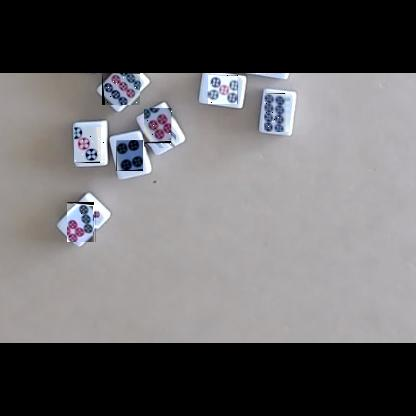1p: (256, 73, 281, 74)
3p: (75, 127, 105, 163)
4p: (116, 140, 143, 171)
5p: (208, 75, 238, 104)
6p: (145, 109, 176, 148)
7p: (68, 202, 99, 242)
8p: (265, 93, 290, 132)
9p: (102, 73, 140, 105)
